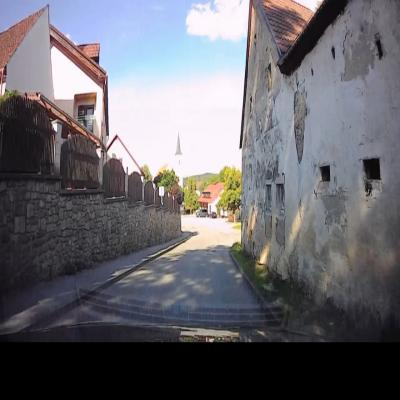clear-road: (103, 215, 258, 307)
